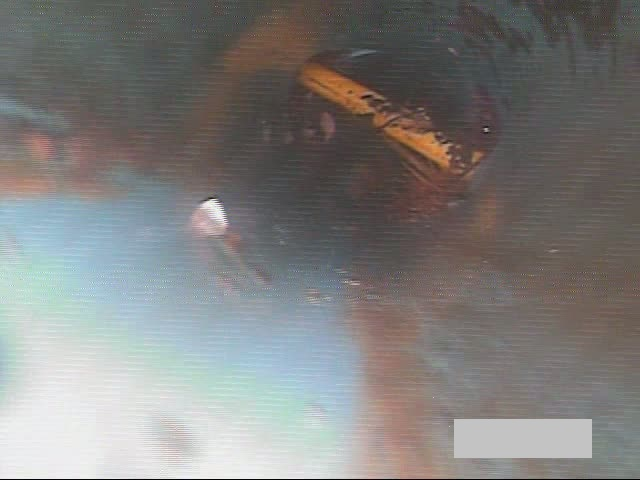cb: (246, 54, 494, 203)
